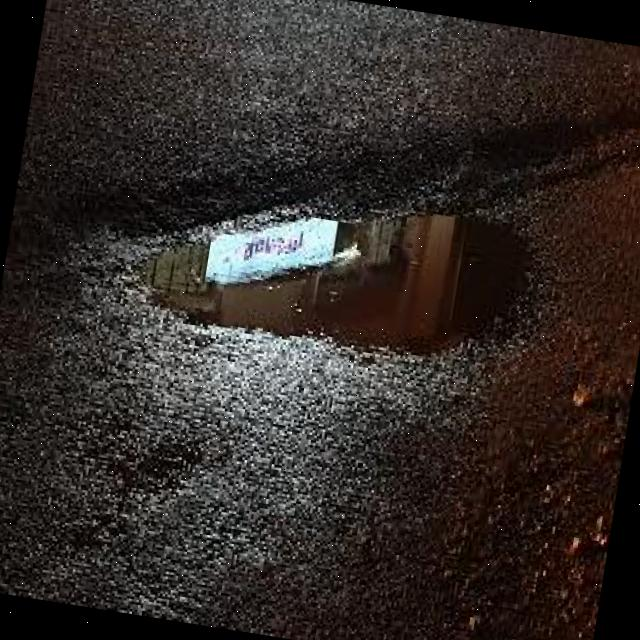waterlogging: (125, 142, 573, 390)
